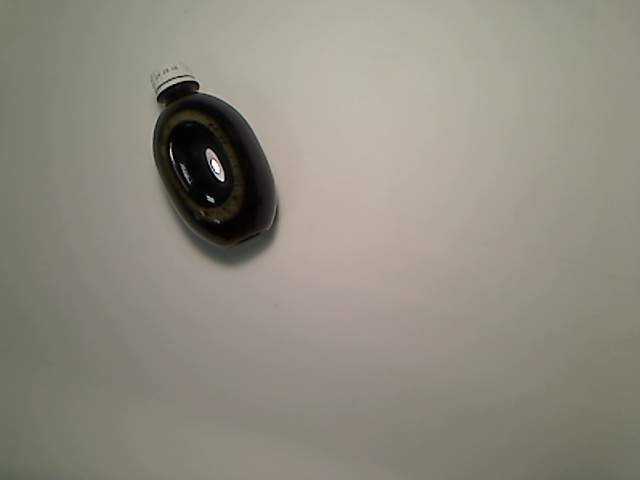plast_bottle: (148, 58, 280, 251)
